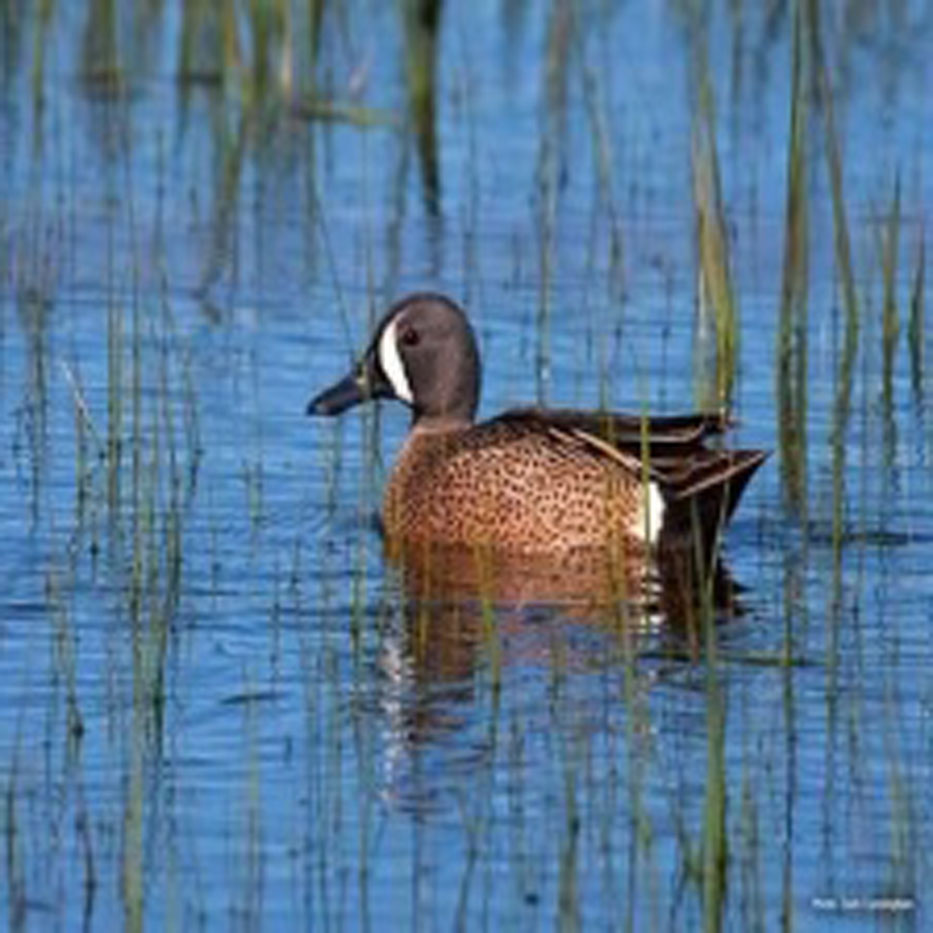Mencari Makan di Lumpur: (304, 357, 390, 421)
